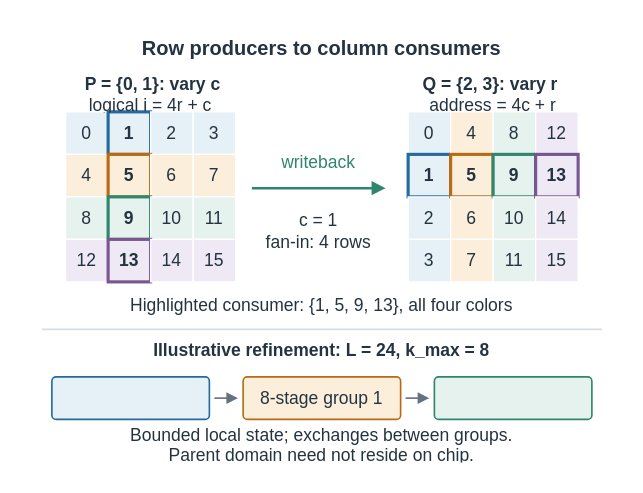
Some shapes in this 643 by 493 pixel diagram are drawn without their labels. Here are the shapes that lost their labels. From the top down, the centre of each, then its label:
At (130,398): "8-stage group 0".
At (512,398): "8-stage group 2".
